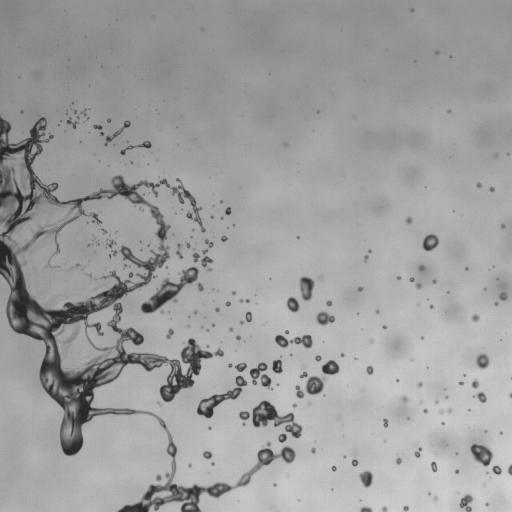droplet: (295, 360, 339, 398), (249, 362, 271, 390), (470, 444, 493, 466), (192, 249, 213, 271), (299, 276, 314, 300), (422, 234, 438, 251), (316, 311, 334, 325), (459, 494, 473, 511), (359, 470, 372, 487), (286, 296, 299, 312), (476, 353, 489, 369), (271, 359, 282, 373), (473, 392, 486, 402), (66, 118, 78, 128), (492, 465, 501, 474), (166, 328, 173, 339), (204, 239, 213, 247), (471, 379, 479, 388), (203, 451, 212, 459), (244, 312, 251, 322), (414, 447, 421, 457), (430, 461, 437, 471), (499, 292, 507, 300), (366, 365, 373, 374), (196, 283, 203, 291), (471, 314, 479, 321), (225, 207, 231, 215), (406, 216, 412, 224), (400, 396, 408, 402), (383, 418, 388, 427), (415, 283, 422, 289), (81, 109, 87, 115), (101, 227, 107, 233), (221, 235, 227, 241), (46, 261, 52, 267), (326, 300, 332, 306), (235, 335, 241, 341), (315, 355, 321, 361), (352, 459, 357, 466), (156, 474, 161, 481), (418, 265, 424, 270), (416, 382, 422, 387), (396, 458, 401, 464), (357, 286, 362, 291), (447, 408, 452, 413), (331, 466, 336, 471), (382, 506, 387, 511), (403, 506, 408, 511), (186, 242, 190, 248), (311, 447, 315, 453), (476, 183, 481, 187), (489, 187, 494, 191), (409, 277, 414, 281), (226, 301, 230, 306), (439, 409, 443, 414), (454, 469, 459, 473), (433, 496, 437, 501), (501, 224, 505, 228), (123, 264, 127, 268), (494, 301, 498, 305), (429, 304, 433, 308), (215, 307, 219, 311), (285, 330, 289, 334), (340, 353, 344, 357), (157, 401, 161, 405), (423, 409, 427, 413), (74, 264, 79, 267), (447, 109, 450, 113), (107, 118, 110, 122), (283, 143, 287, 146), (432, 280, 436, 283), (232, 291, 235, 295), (245, 299, 249, 302), (194, 310, 197, 314), (383, 325, 386, 329), (229, 327, 232, 331), (370, 339, 373, 343), (459, 382, 463, 385), (435, 51, 438, 54), (494, 154, 497, 157), (96, 242, 99, 245), (397, 276, 400, 279), (240, 299, 243, 302), (376, 310, 379, 313), (240, 321, 243, 324), (293, 404, 296, 407), (441, 422, 444, 425), (485, 503, 488, 506), (410, 9, 413, 11), (465, 267, 468, 269), (308, 402, 310, 405), (208, 427, 211, 429), (484, 430, 487, 432), (188, 464, 191, 466), (21, 111, 23, 113), (220, 200, 222, 202), (211, 216, 213, 218), (94, 287, 96, 289), (212, 324, 214, 326), (396, 379, 398, 381), (407, 417, 409, 419), (486, 471, 488, 473)
ligament: (0, 116, 292, 511), (238, 400, 302, 442), (141, 266, 197, 313), (196, 374, 247, 418), (104, 120, 130, 145), (275, 334, 312, 348), (120, 140, 151, 154), (228, 362, 246, 372), (93, 124, 103, 135), (176, 244, 183, 258), (364, 250, 371, 261), (359, 506, 372, 511), (507, 464, 511, 475), (86, 273, 92, 278), (509, 392, 511, 398)
